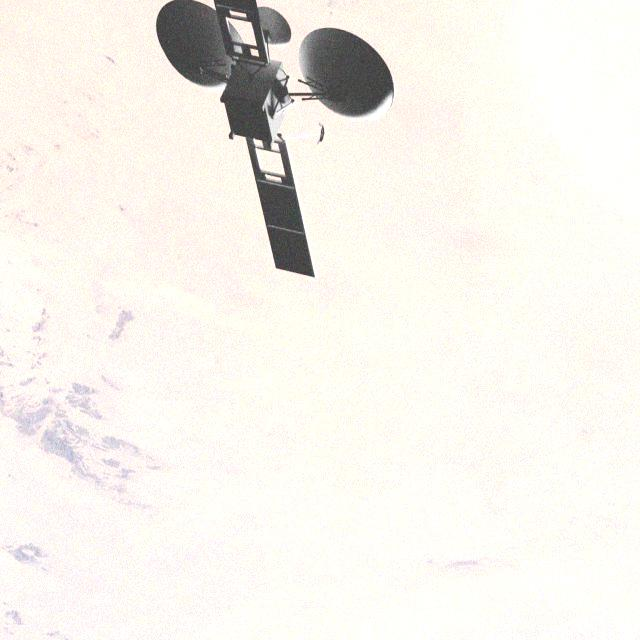satellite: (124, 0, 410, 306)
